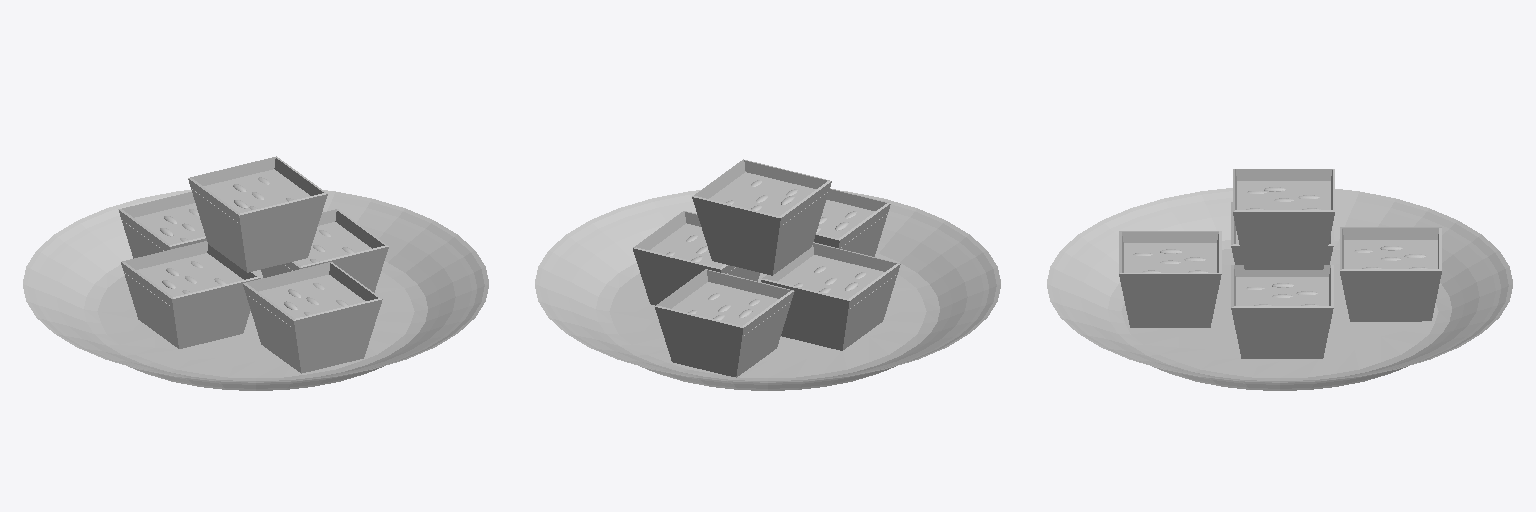
File: kue klaperart.obj
The picture shows the model from 3 angles: view 1: azimuth 30°, elevation 25°; view 2: azimuth 150°, elevation 25°; view 3: azimuth 270°, elevation 25°; orthographic projection.
Visible parts, largest first — view 1: Cylinder, Cube.004_Cube.005, Cube.003_Cube.004, Cube, Cube.001_Cube.002, Plane.004, Plane, Plane.003, Cube.002_Cube.003, Plane.002, Plane.001; view 2: Cylinder, Cube.004_Cube.005, Cube.002_Cube.003, Cube, Cube.001_Cube.002, Plane.002, Plane, Plane.004, Cube.003_Cube.004, Plane.001, Plane.003; view 3: Cylinder, Cube.004_Cube.005, Cube.003_Cube.004, Cube.002_Cube.003, Cube.001_Cube.002, Plane.003, Plane.004, Plane.002, Plane.001.
Boxes of the visible parts, <box> form: Cylinder: <box>23,190,488,390</box>; Cube.004_Cube.005: <box>188,156,327,272</box>; Cube.003_Cube.004: <box>243,262,382,373</box>; Cube: <box>121,241,260,348</box>; Cube.001_Cube.002: <box>261,209,388,292</box>; Plane.004: <box>192,169,309,222</box>; Plane: <box>125,253,243,305</box>; Plane.003: <box>249,275,365,326</box>; Cube.002_Cube.003: <box>118,192,206,258</box>; Plane.002: <box>122,203,204,250</box>; Plane.001: <box>285,222,371,270</box>; Cylinder: <box>535,190,1000,390</box>; Cube.004_Cube.005: <box>692,159,831,275</box>; Cube.002_Cube.003: <box>654,269,794,377</box>; Cube: <box>761,242,900,350</box>; Cube.001_Cube.002: <box>633,211,759,305</box>; Plane.002: <box>672,282,789,335</box>; Plane: <box>778,255,895,308</box>; Plane.004: <box>709,172,827,224</box>; Cube.003_Cube.004: <box>814,188,890,256</box>; Plane.001: <box>649,223,735,273</box>; Plane.003: <box>818,200,886,247</box>; Cylinder: <box>1047,188,1512,390</box>; Cube.004_Cube.005: <box>1233,169,1334,269</box>; Cube.003_Cube.004: <box>1119,231,1221,327</box>; Cube.002_Cube.003: <box>1340,227,1441,321</box>; Cube.001_Cube.002: <box>1231,265,1333,358</box>; Plane.003: <box>1124,243,1216,272</box>; Plane.004: <box>1237,181,1330,209</box>; Plane.002: <box>1344,240,1437,268</box>; Plane.001: <box>1236,277,1328,305</box>.
Size of the model in its own units: 2.31 by 0.7425 by 2.31.